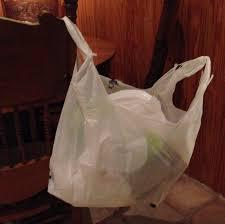Plastic: (54, 12, 208, 215)
